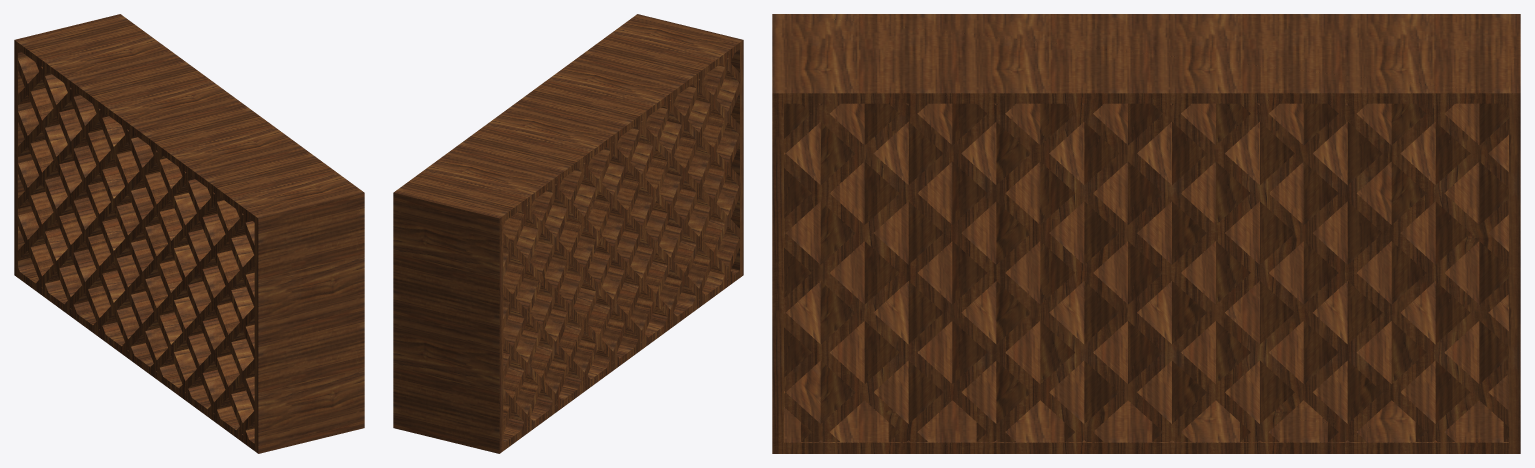
Rendered from wooden_bar_for_buhlo.FBX.
3 views of the same model, side by side, from view 1: azimuth 30°, elevation 25°; view 2: azimuth 150°, elevation 25°; view 3: azimuth 270°, elevation 25° (orthographic). The views are drawn at different scales.
Parts seen in each view (by area): view 1: Box022; view 2: Box022; view 3: Box022.
Boxes of the visible parts, x1,y1,x2,y2 form: Box022: (14, 14, 364, 453); Box022: (393, 14, 743, 453); Box022: (772, 14, 1520, 453).
Size of the model in its own units: 49.74 by 198 by 105.
1 material, 1 textured.
